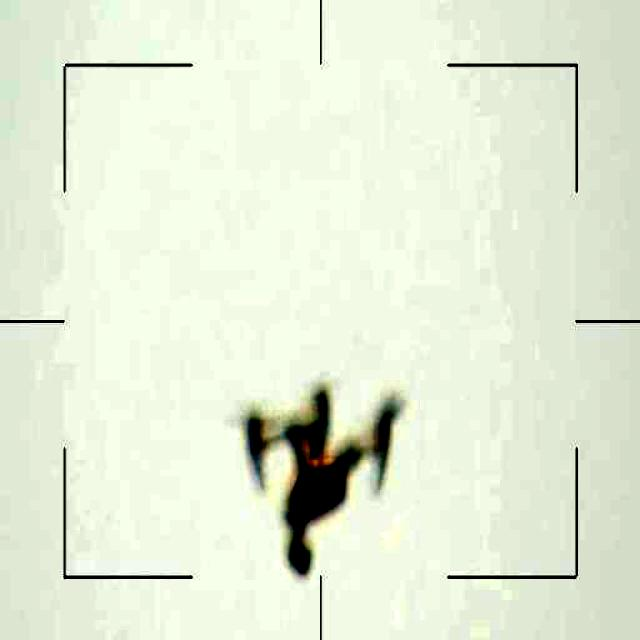bird: (241, 369, 415, 574)
